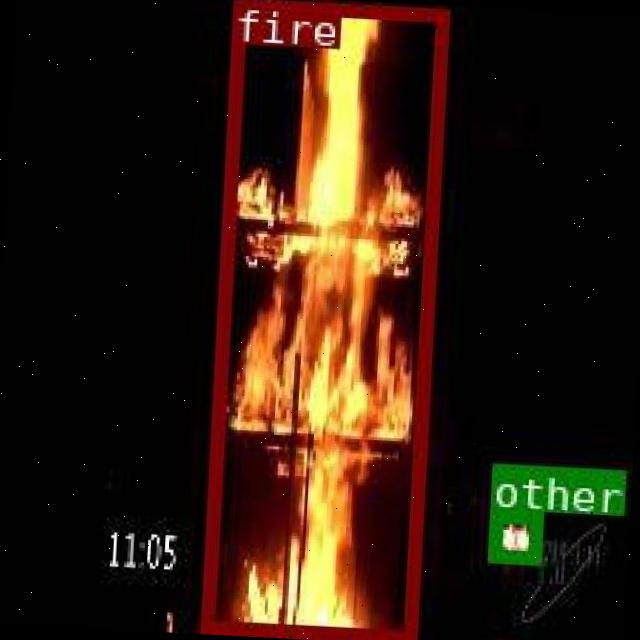fire: (198, 0, 445, 639)
